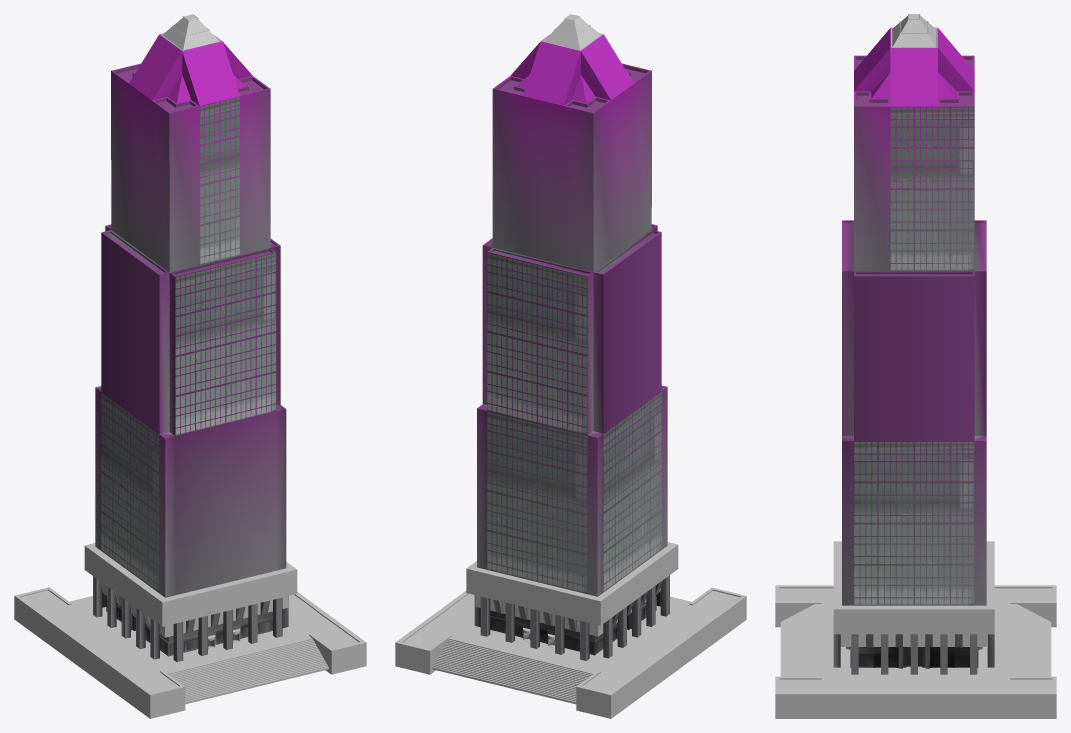
The model's file is downtown_skyscraper_6.FBX.
The picture shows the model from 3 angles, left to right: view 1: azimuth 30°, elevation 25°; view 2: azimuth 150°, elevation 25°; view 3: azimuth 270°, elevation 25°; orthographic projection. The views are drawn at different scales.
Parts seen in each view (by area): view 1: downtown_skyscraper_6, em_win_dwtn_skyscraper_6, platform_dtw_skyscraper_6; view 2: downtown_skyscraper_6, em_win_dwtn_skyscraper_6, platform_dtw_skyscraper_6; view 3: downtown_skyscraper_6, em_win_dwtn_skyscraper_6, platform_dtw_skyscraper_6.
Boxes of the visible parts, bbox=[...] form: downtown_skyscraper_6: bbox=[84, 14, 297, 661]; em_win_dwtn_skyscraper_6: bbox=[101, 97, 275, 592]; platform_dtw_skyscraper_6: bbox=[14, 587, 366, 718]; downtown_skyscraper_6: bbox=[466, 14, 678, 660]; em_win_dwtn_skyscraper_6: bbox=[487, 253, 661, 593]; platform_dtw_skyscraper_6: bbox=[395, 587, 746, 718]; downtown_skyscraper_6: bbox=[833, 14, 994, 674]; em_win_dwtn_skyscraper_6: bbox=[854, 107, 974, 605]; platform_dtw_skyscraper_6: bbox=[775, 585, 1056, 718].
Bounding box in the file's own units: 346 × 958 × 377.
